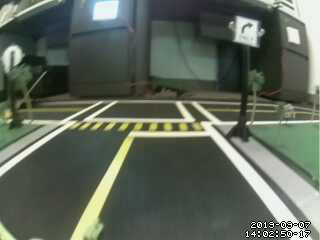Right_only_sign: (236, 13, 263, 53)
